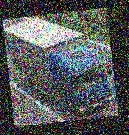truck: (3, 10, 117, 123)
